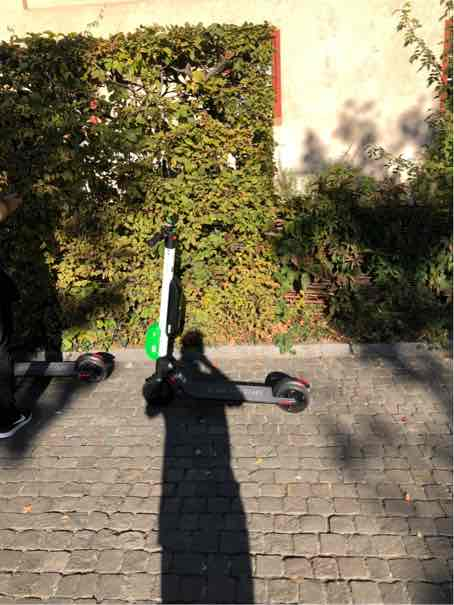scooter: (138, 221, 315, 412)
